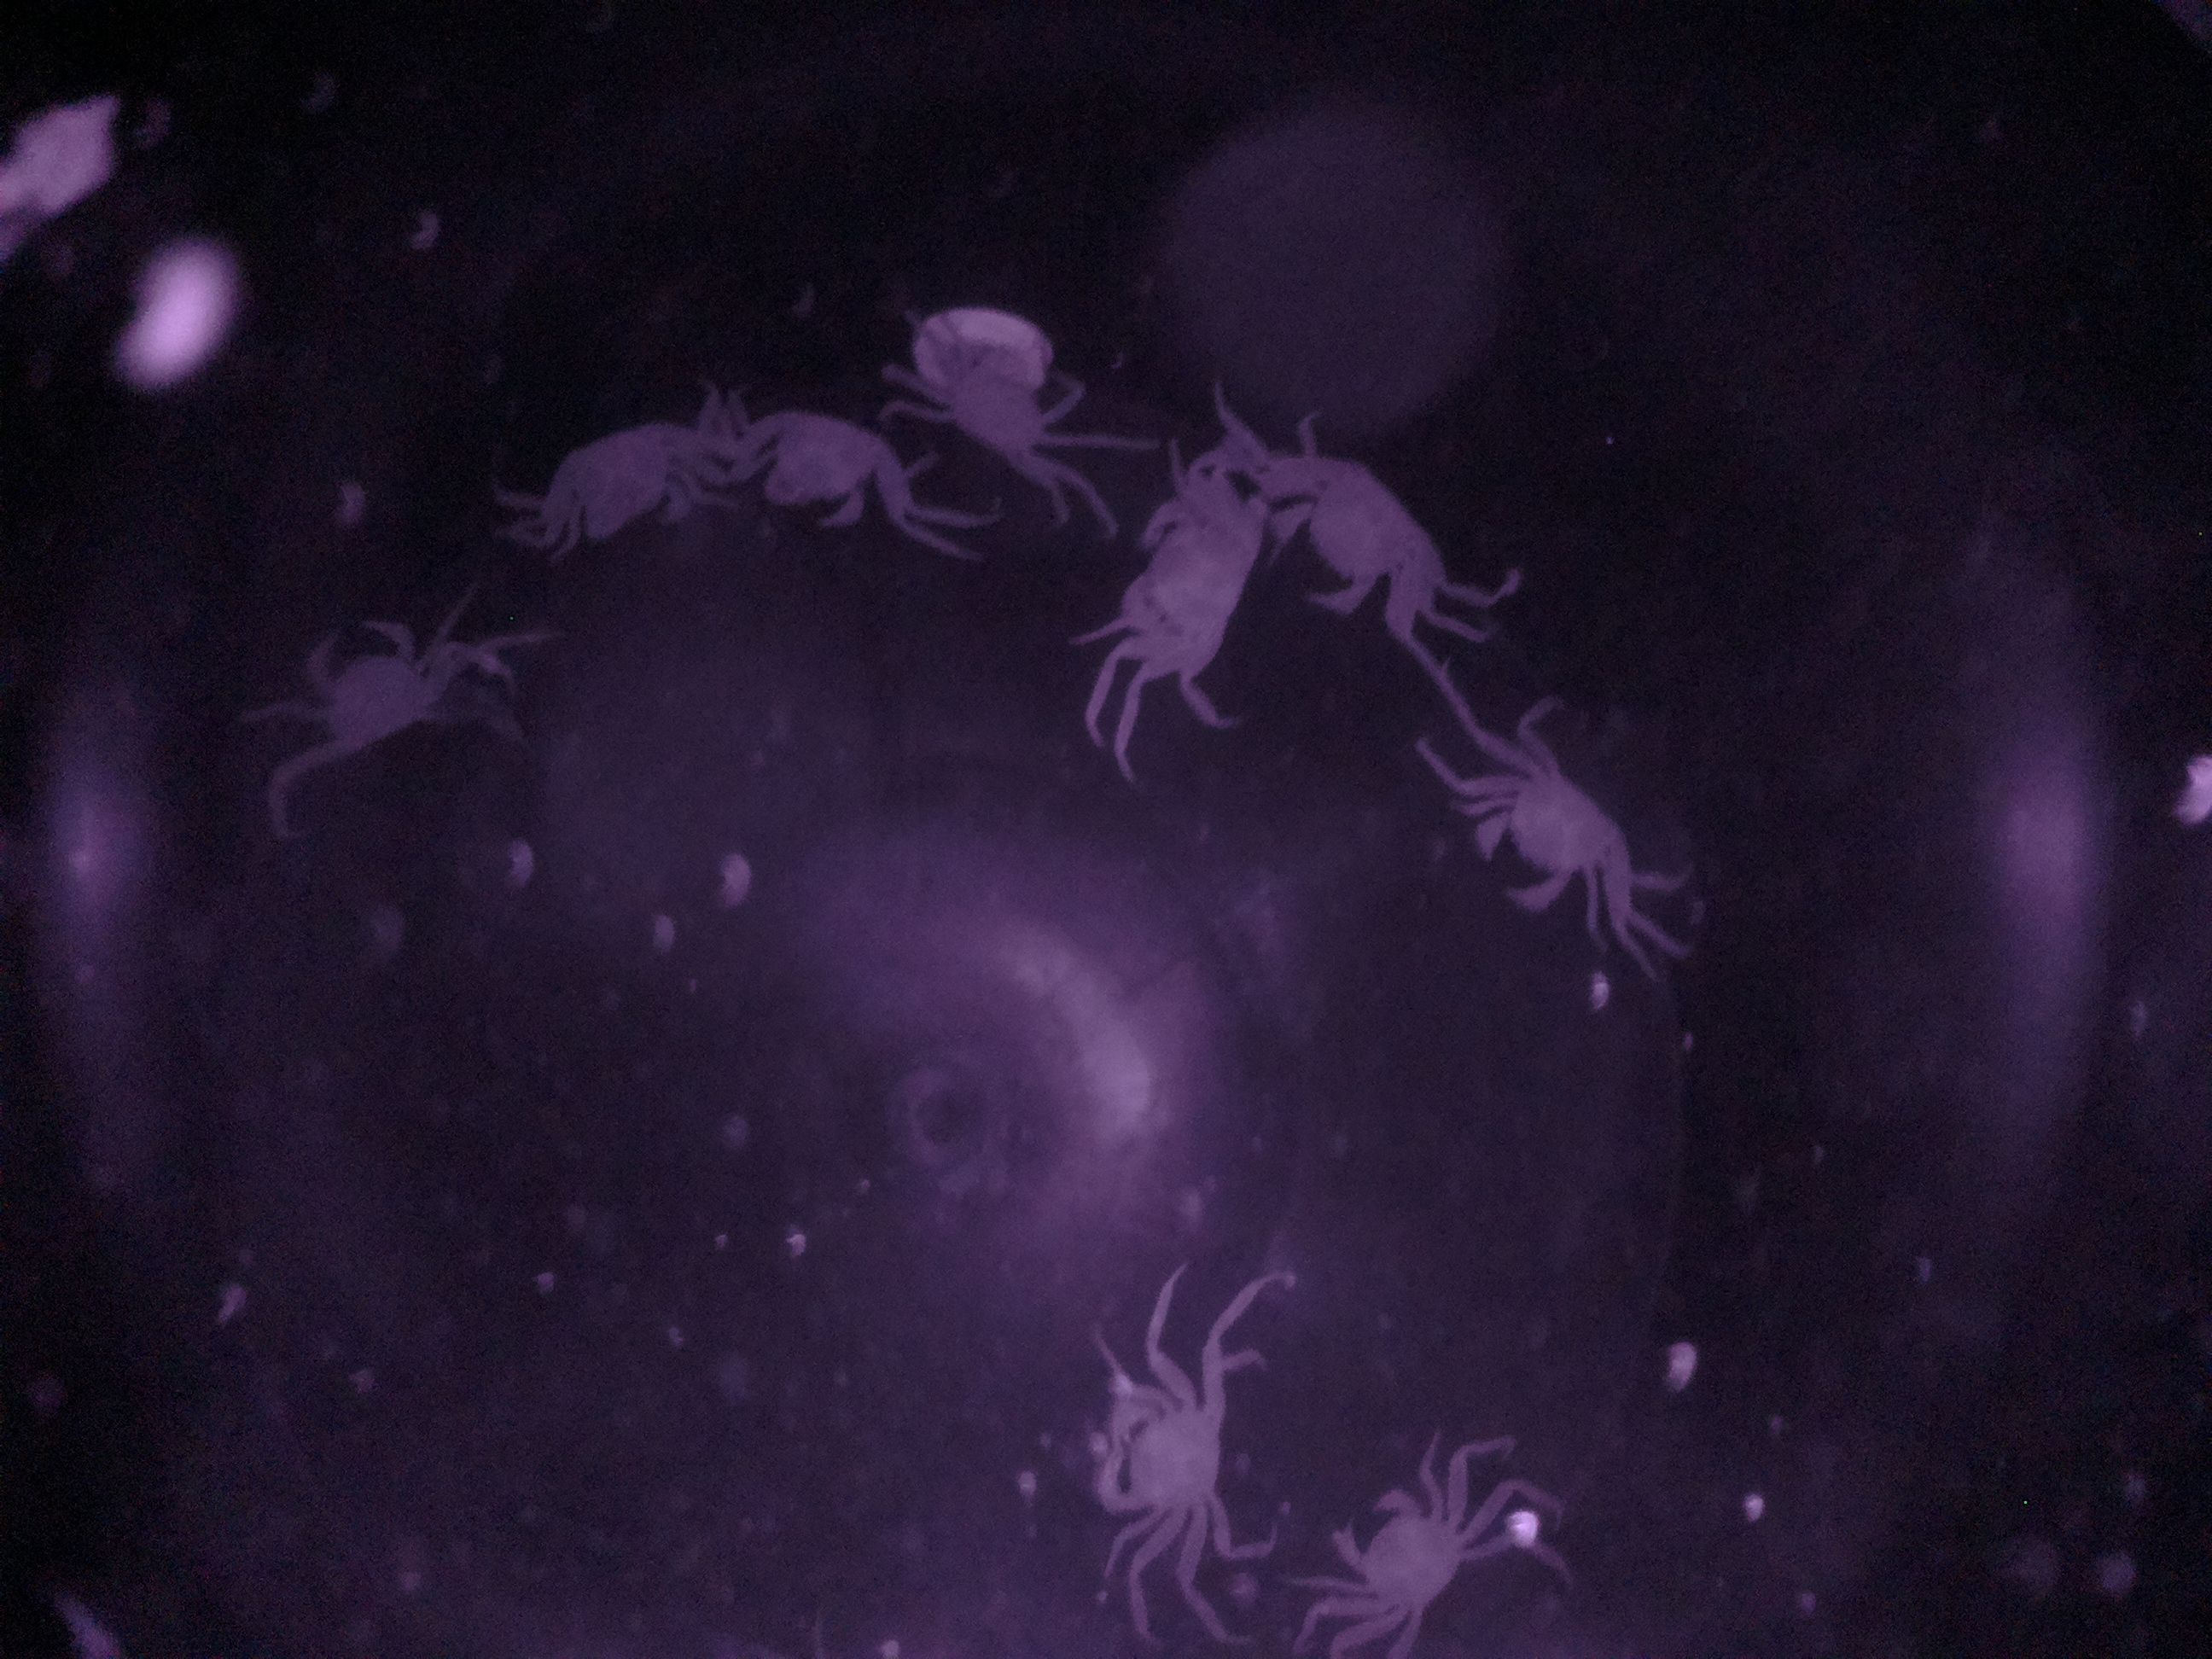Crab: (1068, 1342, 1258, 1575), (1451, 734, 1649, 932), (1258, 427, 1461, 617), (1104, 465, 1270, 697), (1305, 1450, 1493, 1645)
